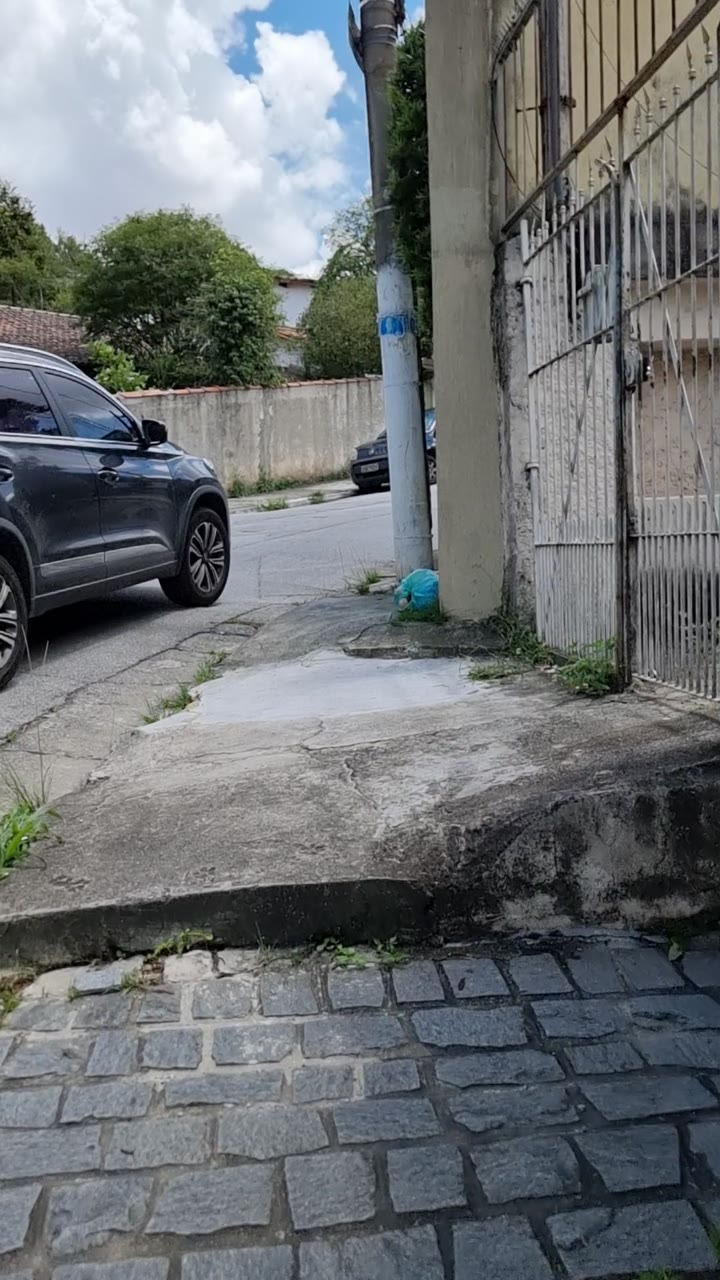desnivel: (0, 883, 720, 973)
obstaculo: (345, 0, 427, 589), (395, 569, 439, 613)
